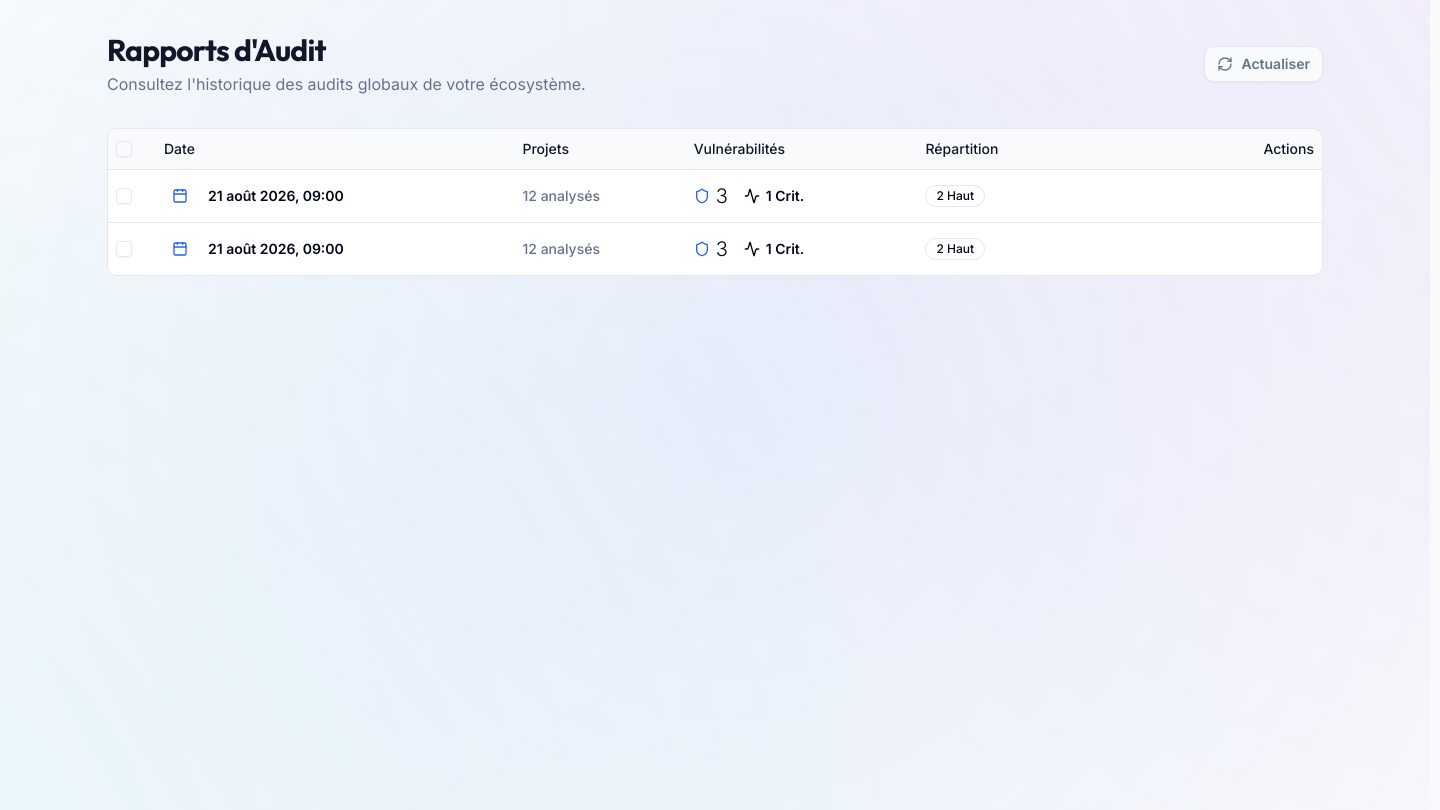
Scenario: Reports › la sélection multiple propose une suppression groupée
# La première case est celle d'en-tête (tout sélectionner).
Click the 1st checkbox named "Select report": click(124, 196) [116,188,132,204]
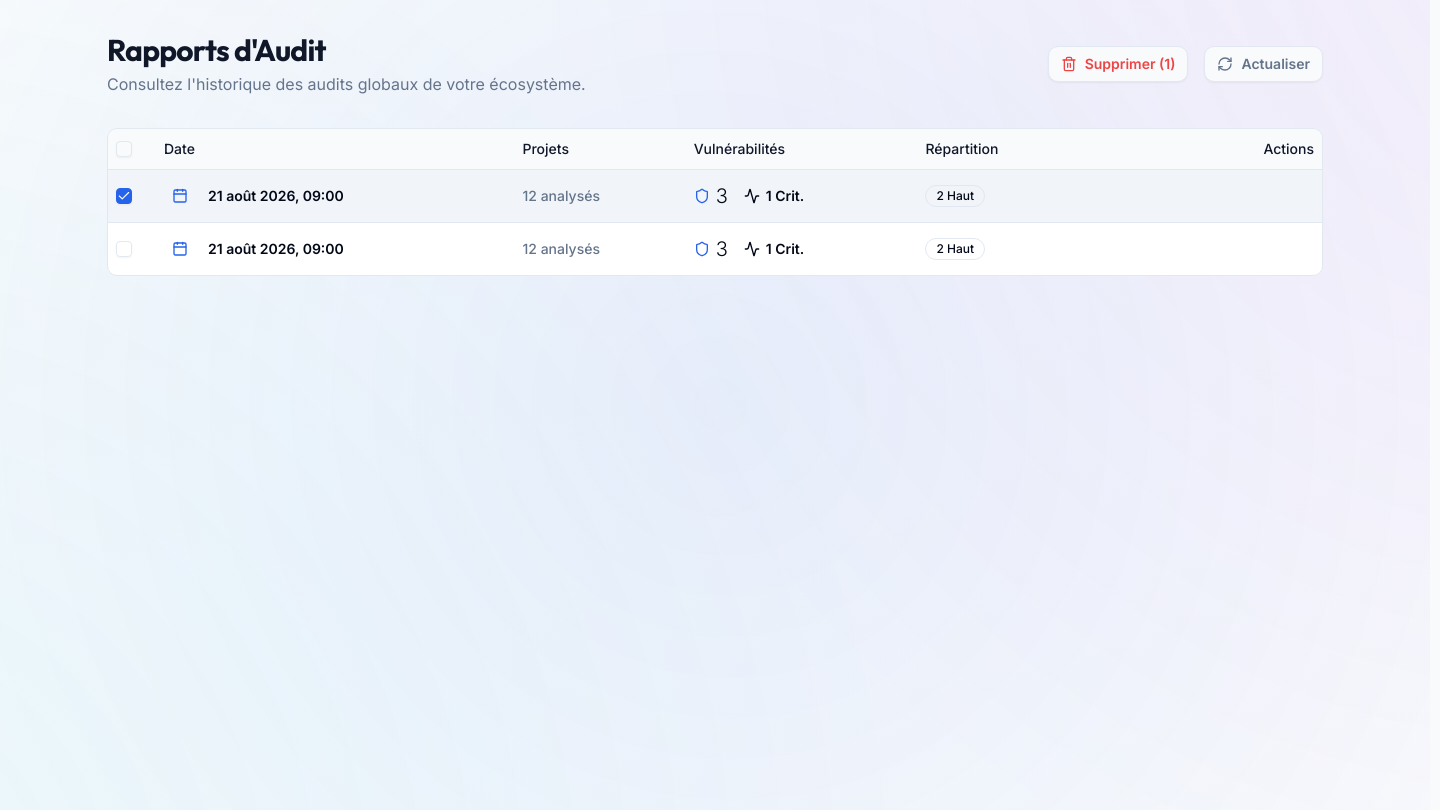
Expected: the button "Supprimer (1)" is shown, [1048,46,1188,82]
